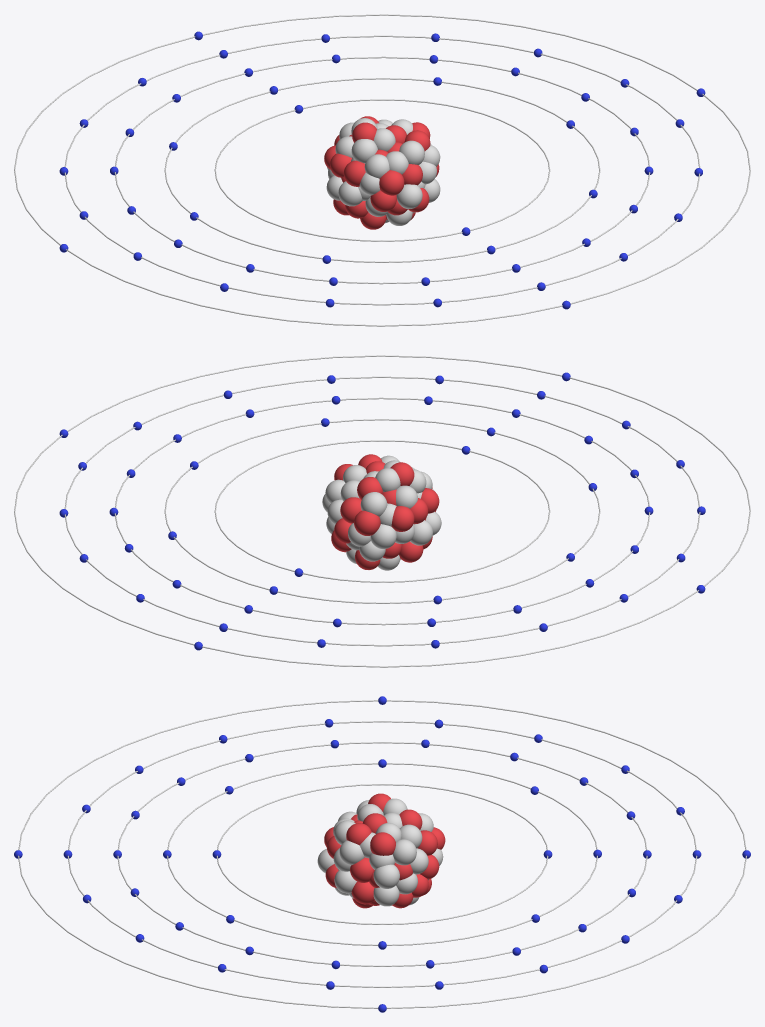
File: Zinn.glb
3 views of the same model, one above another, from view 1: azimuth 30°, elevation 25°; view 2: azimuth 150°, elevation 25°; view 3: azimuth 270°, elevation 25° (orthographic).
Visible parts, largest first — view 1: O-Schale, N-Schale, M-Schale, L-Schale, K-Schale; view 2: O-Schale, N-Schale, M-Schale, L-Schale, K-Schale, Proton 47; view 3: O-Schale, N-Schale, M-Schale, L-Schale, K-Schale, Neutron 62.
Boxes of the visible parts, bbox=[...] form: O-Schale: bbox=[14, 14, 750, 326]; N-Schale: bbox=[64, 35, 700, 305]; M-Schale: bbox=[114, 56, 650, 284]; L-Schale: bbox=[164, 78, 600, 262]; K-Schale: bbox=[214, 99, 550, 241]; O-Schale: bbox=[14, 355, 750, 667]; N-Schale: bbox=[64, 376, 700, 646]; M-Schale: bbox=[114, 397, 650, 625]; L-Schale: bbox=[164, 419, 600, 603]; K-Schale: bbox=[214, 440, 550, 582]; Proton 47: bbox=[354, 510, 380, 535]; O-Schale: bbox=[18, 700, 746, 1008]; N-Schale: bbox=[67, 721, 697, 987]; M-Schale: bbox=[117, 742, 647, 966]; L-Schale: bbox=[167, 763, 597, 945]; K-Schale: bbox=[216, 784, 548, 924]; Neutron 62: bbox=[373, 864, 399, 888].
Bounding box in the file's own units: 22.26 × 3.34 × 22.26.
